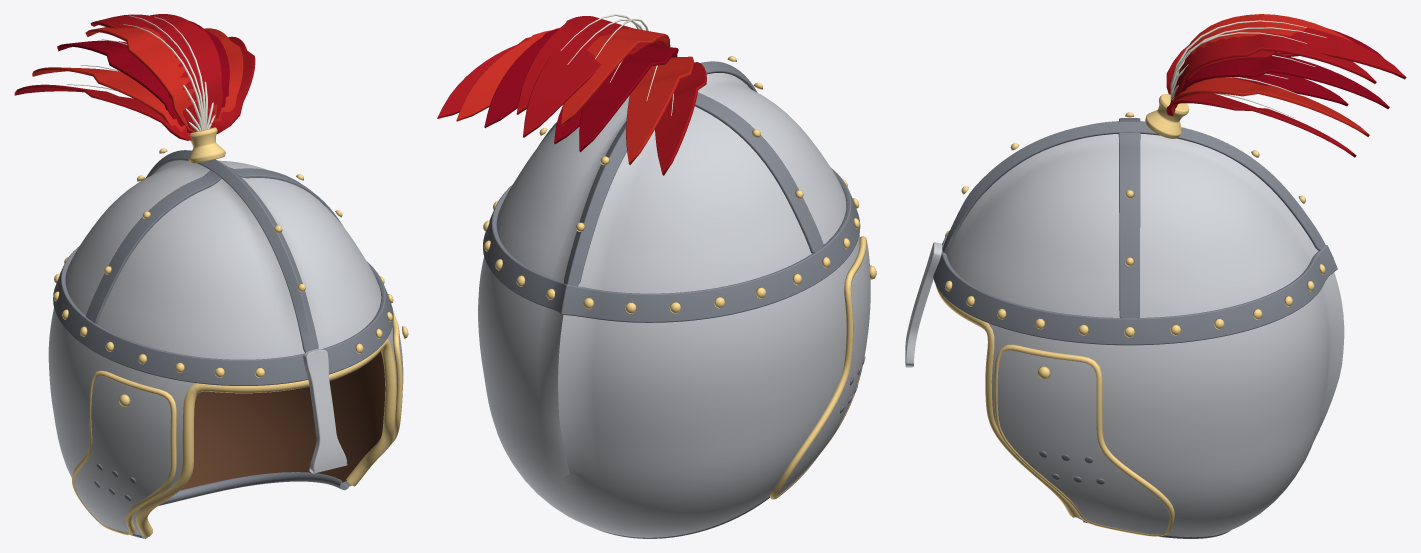
File: knight.glb
The picture shows the model from 3 angles, left to right: view 1: azimuth 30°, elevation 25°; view 2: azimuth 150°, elevation 25°; view 3: azimuth 270°, elevation 25°; orthographic projection. The views are drawn at different scales.
Parts seen in each view (by area): view 1: knight_body, knight_plume_mesh; view 2: knight_body, knight_plume_mesh; view 3: knight_body, knight_plume_mesh.
Boxes of the visible parts, bbox=[...] form: knight_body: bbox=[48, 127, 408, 538]; knight_plume_mesh: bbox=[14, 14, 255, 140]; knight_body: bbox=[478, 56, 876, 538]; knight_plume_mesh: bbox=[437, 14, 706, 175]; knight_body: bbox=[905, 94, 1344, 538]; knight_plume_mesh: bbox=[1166, 14, 1406, 157].
Bounding box in the file's own units: 1.35 × 2.02 × 1.88.
